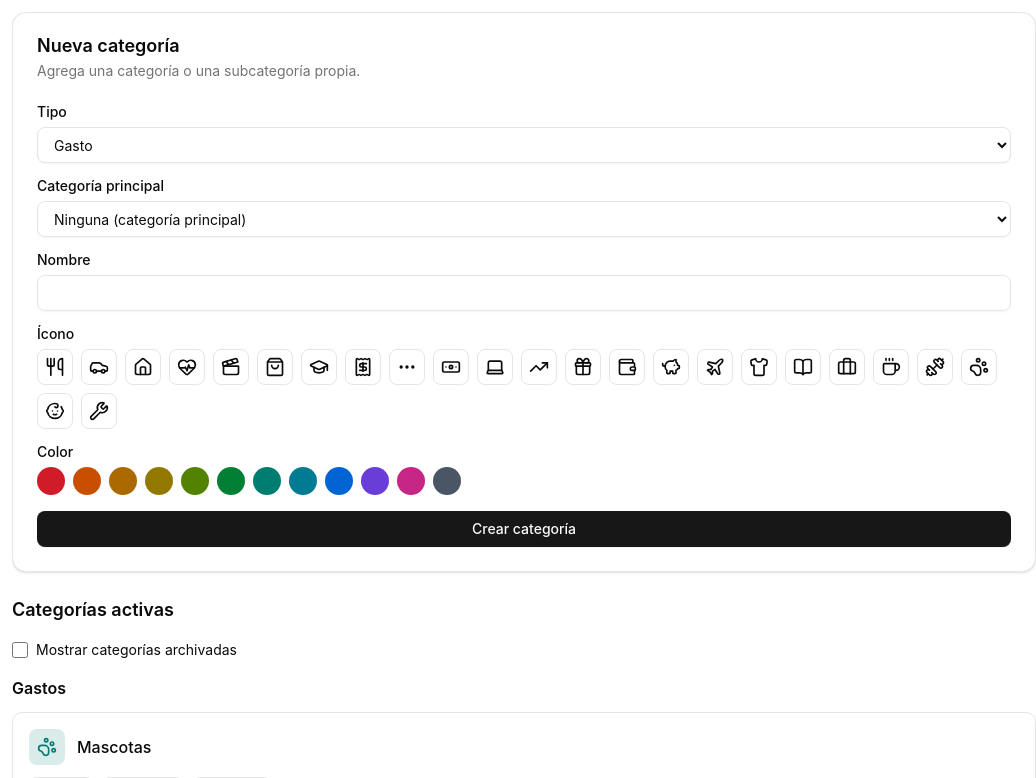
Test: CategoriesContainer › hides the create form in the archived view, where parents would be archived
Expected: the field labelled "Nombre" is shown, [37,275,1011,311]
Click the checkbox labelled "Mostrar categorías archivadas" at (20, 650), box [12,642,28,658]
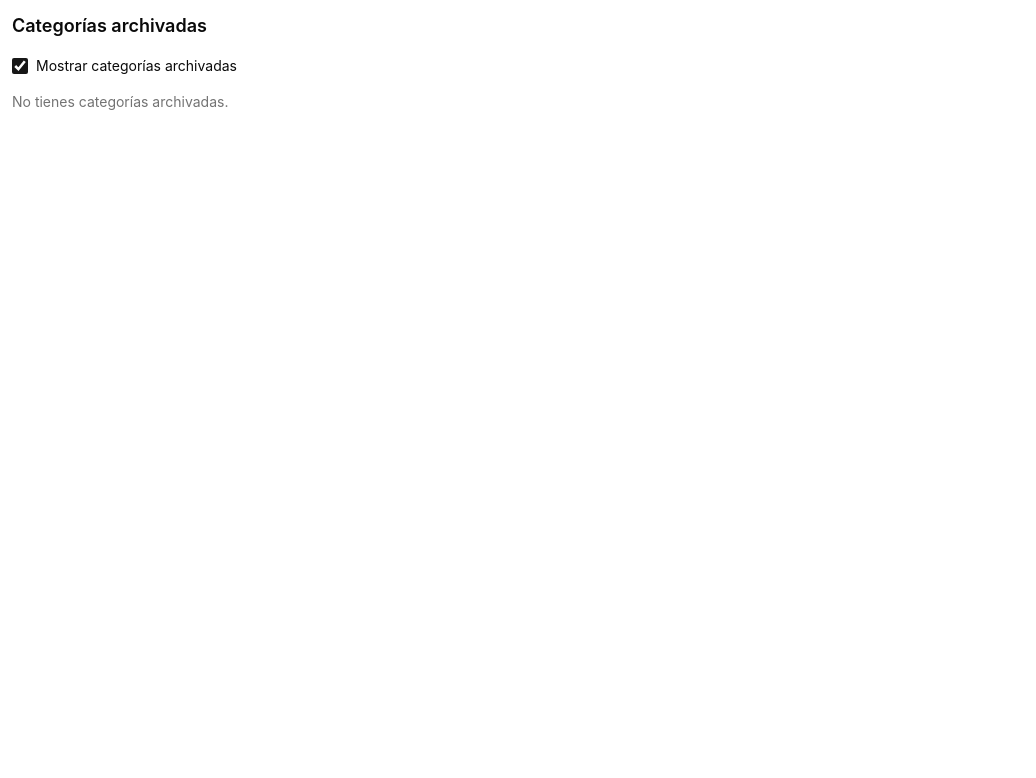
Now the text "No tienes categorías archivadas." is shown, box [12,93,228,110]
Now the label labelled "Nombre" is gone
